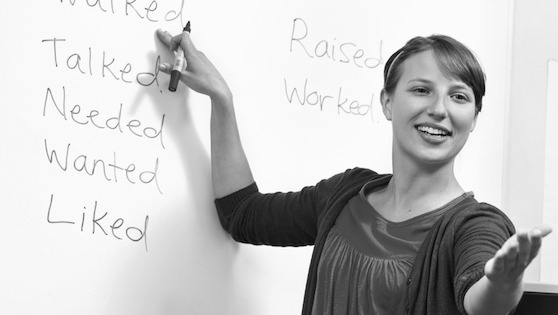pointing_gesture: (153, 25, 236, 116), (478, 221, 556, 285)
